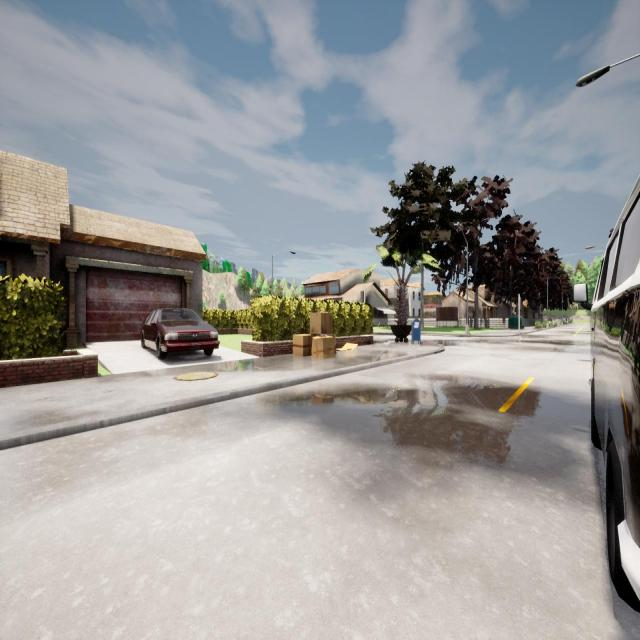Vehicle: (571, 177, 640, 610), (141, 308, 219, 359)
traffic_light: (360, 291, 364, 303), (518, 297, 521, 308)
